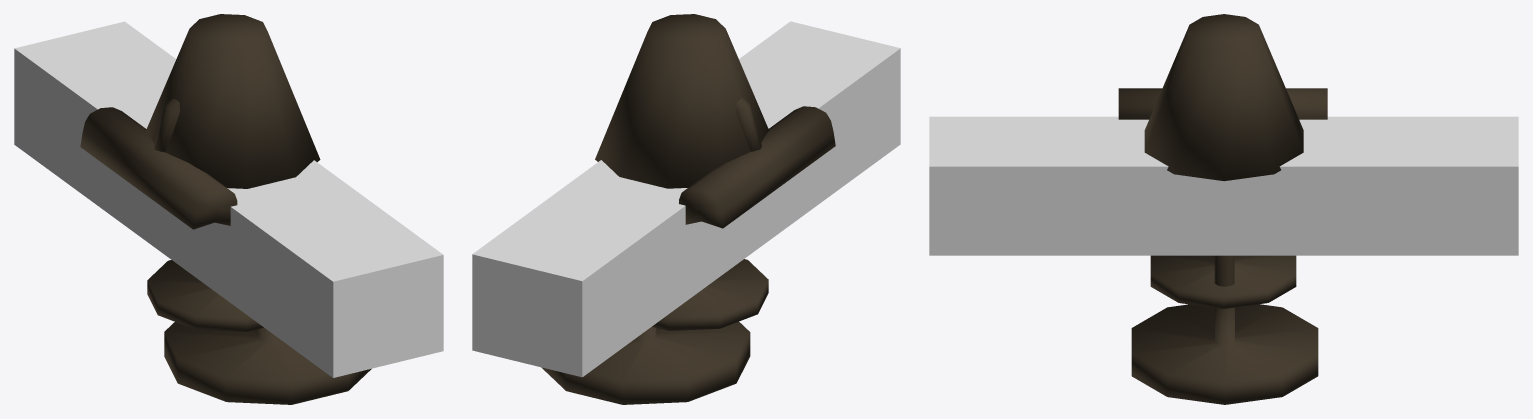
The model's file is Lighting.fbx.
The picture shows the model from 3 angles, left to right: view 1: azimuth 30°, elevation 25°; view 2: azimuth 150°, elevation 25°; view 3: azimuth 270°, elevation 25°; orthographic projection. The views are drawn at different scales.
Visible parts, largest first — view 1: Fluorescent, Lamp, DeskLamp; view 2: Fluorescent, Lamp, DeskLamp; view 3: Fluorescent, Lamp, DeskLamp.
Boxes of the visible parts, x1,y1,x2,y2 form: Fluorescent: (14,21,443,377); Lamp: (146,14,320,331); DeskLamp: (80,98,371,404); Fluorescent: (472,21,900,377); Lamp: (595,14,769,330); DeskLamp: (541,97,835,404); Fluorescent: (929,116,1518,255); Lamp: (1144,14,1303,308); DeskLamp: (1118,88,1327,404).
Size of the model in its own units: 0.2451 by 0.3543 by 0.6.
